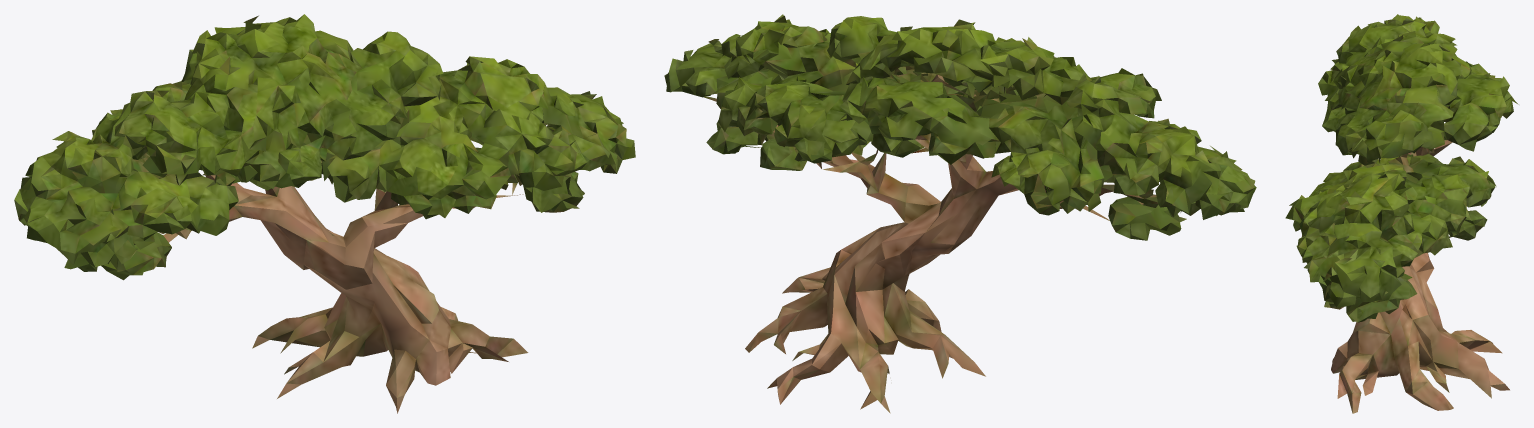
File: tree_umbrella.glb
The picture shows the model from 3 angles, left to right: view 1: azimuth 30°, elevation 25°; view 2: azimuth 150°, elevation 25°; view 3: azimuth 270°, elevation 25°; orthographic projection. The views are drawn at different scales.
Size of the model in its own units: 1.89 by 1.13 by 0.8071.
1 material, 1 textured.
